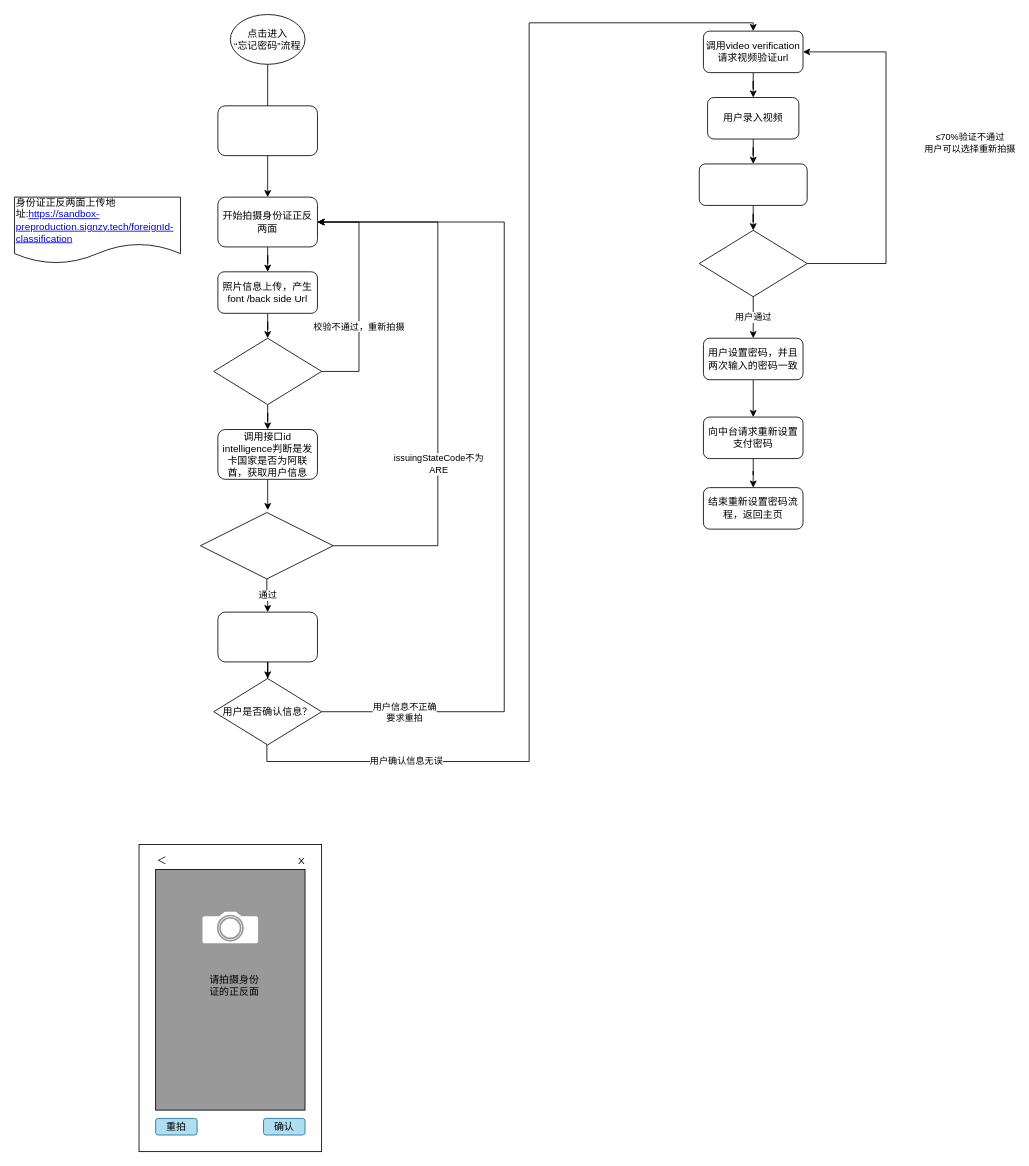
This 1029x1166 diagram has some shape labels left out. Here are the shapes that lost their labels. From the top down, the centre of each, then its label:
At [267,130]: "使用login接口 获取token、userId".
At [752,184]: "调用video verification inquiry接口，获得活动参数 matchPercentage".
At [752,263]: "matchPercentage是否＞70%".
At [267,371]: "调用接口Image Quality 判断图片质量".
At [266,545]: "判断issuingStateCode是否为阿联酋？".
At [267,636]: "展示个人信息页面（name、DoB等）".
